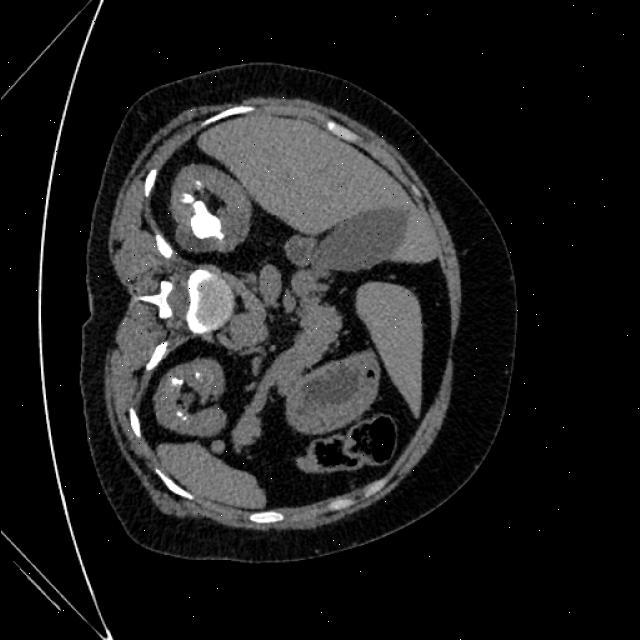kidneystone: (189, 200, 224, 239)
